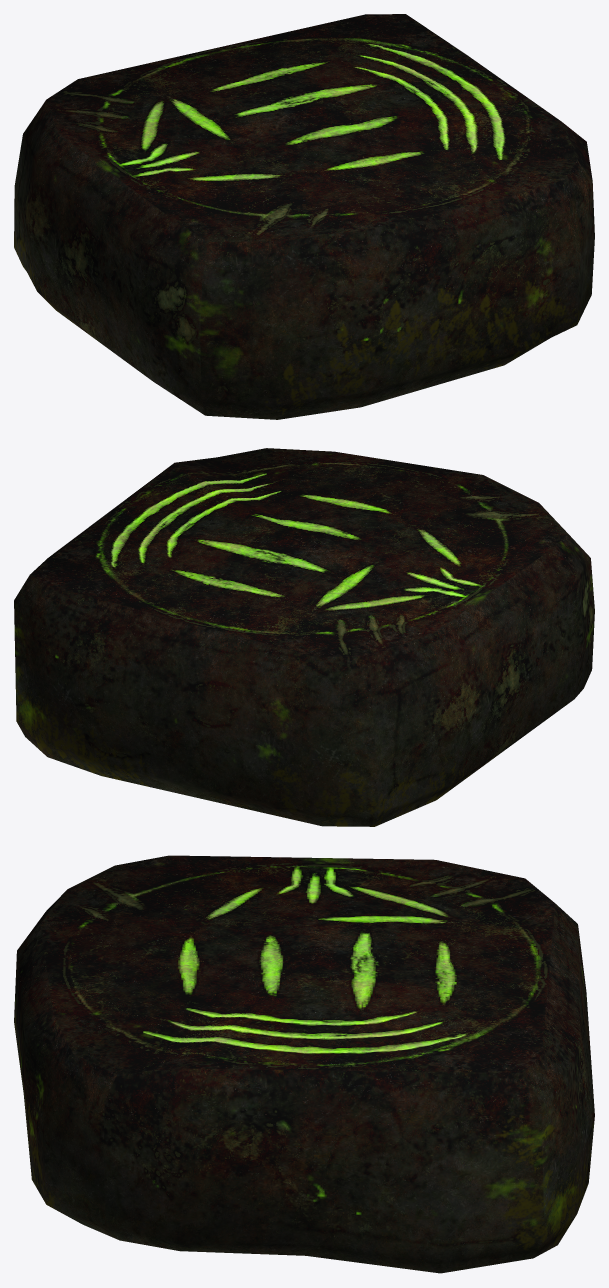
The model's file is whglowrune.glb.
3 renders of one model, top to bottom at view 1: azimuth 30°, elevation 25°; view 2: azimuth 150°, elevation 25°; view 3: azimuth 270°, elevation 25°, orthographic. The views are drawn at different scales.
Parts seen in each view (by area): view 1: Stormfist.Big.001_17; view 2: Stormfist.Big.001_17; view 3: Stormfist.Big.001_17.
Part boxes in pixels (x1,y1,x2,y2): Stormfist.Big.001_17: (14,14,594,419); Stormfist.Big.001_17: (14,448,594,826); Stormfist.Big.001_17: (14,855,594,1273).
Bounding box in the file's own units: 0.1055 × 0.0425 × 0.1075.
Materials: 1 (1 with a texture image).
